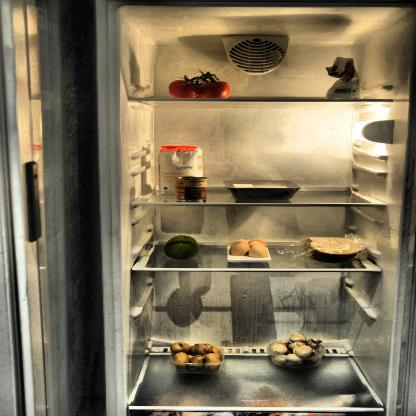apple: (161, 233, 202, 260)
corn: (172, 176, 207, 200)
eggs: (229, 237, 273, 260)
mushrooms: (268, 332, 324, 370)
potato: (168, 340, 226, 372)
tomato: (170, 78, 235, 99)
